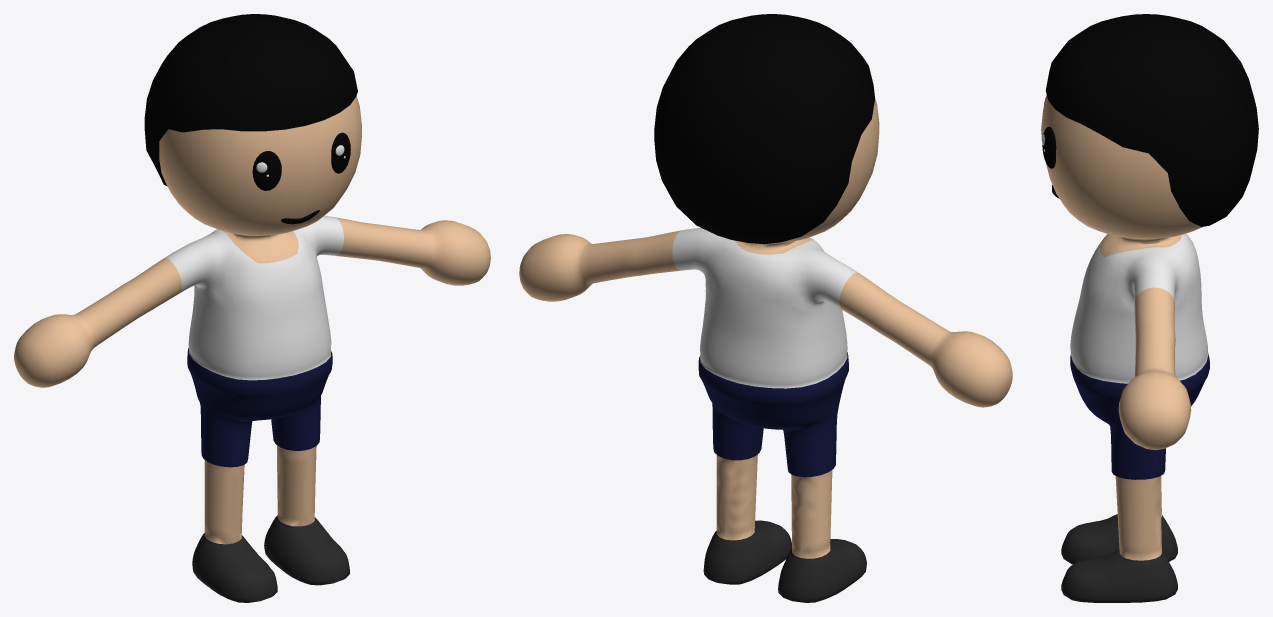
The model's file is Kid_Male.fbx.
The picture shows the model from 3 angles, left to right: view 1: azimuth 30°, elevation 25°; view 2: azimuth 150°, elevation 25°; view 3: azimuth 270°, elevation 25°; orthographic projection. The views are drawn at different scales.
Parts seen in each view (by area): view 1: Kid_Male; view 2: Kid_Male; view 3: Kid_Male.
Part boxes in pixels (left/top/right/bottom): Kid_Male: left=14, top=14, right=490, bottom=602; Kid_Male: left=519, top=14, right=1012, bottom=602; Kid_Male: left=1041, top=14, right=1258, bottom=602.
Size of the model in its own units: 2.55 by 2.81 by 1.01.
